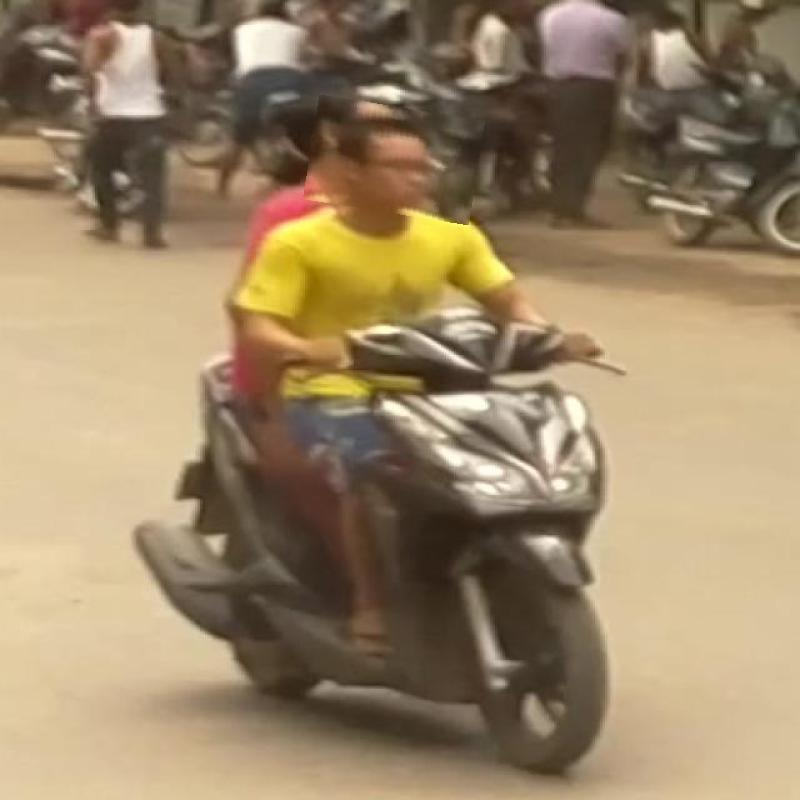nohelmet: (306, 102, 482, 219)
